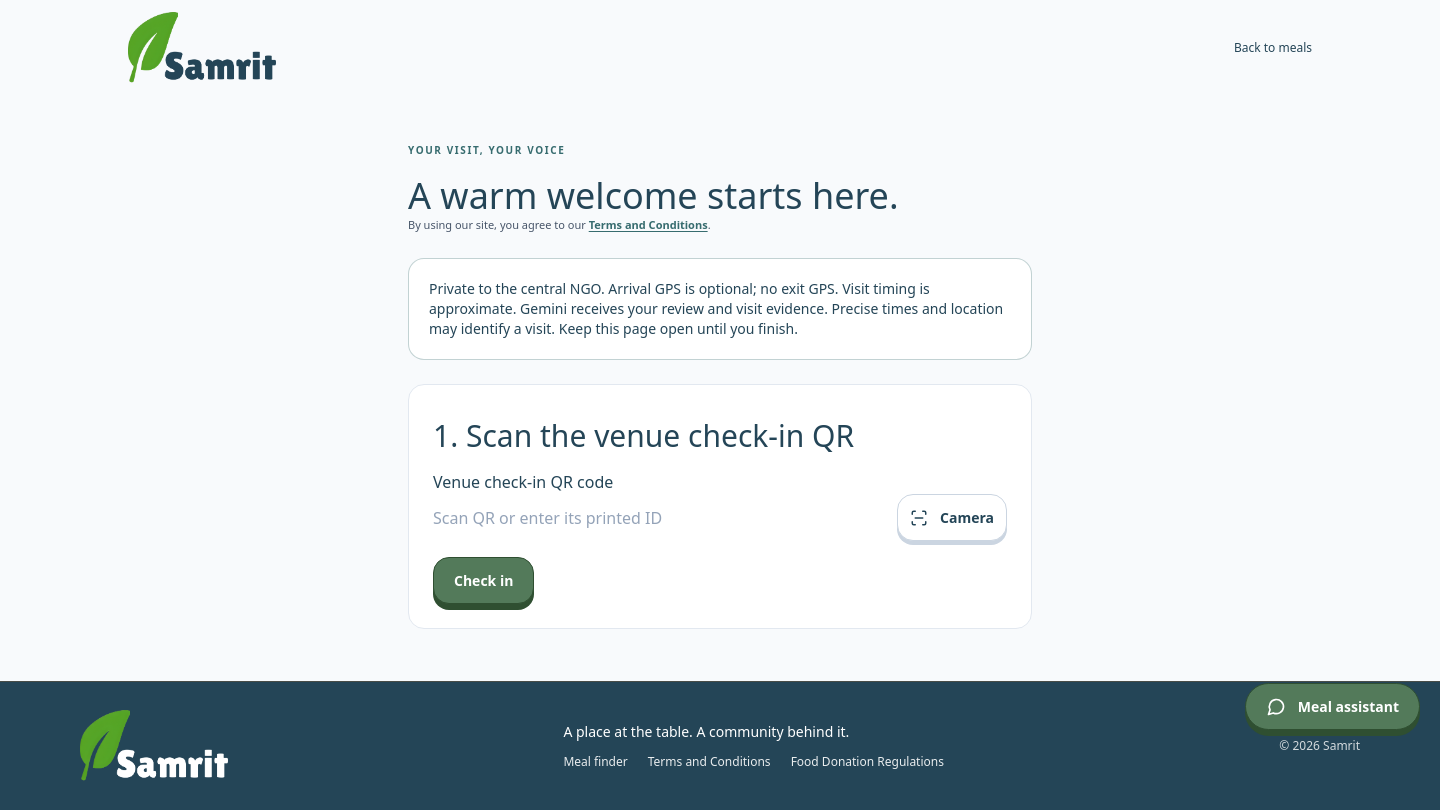
single venue check-in and finish button › keeps the review closed when finish fails
Type "SAMRIT:CENTER:test" into the field labelled "Venue check-in QR code".
click(659, 518); type("SAMRIT:CENTER:test")  # box x1=433 y1=506 x2=885 y2=530
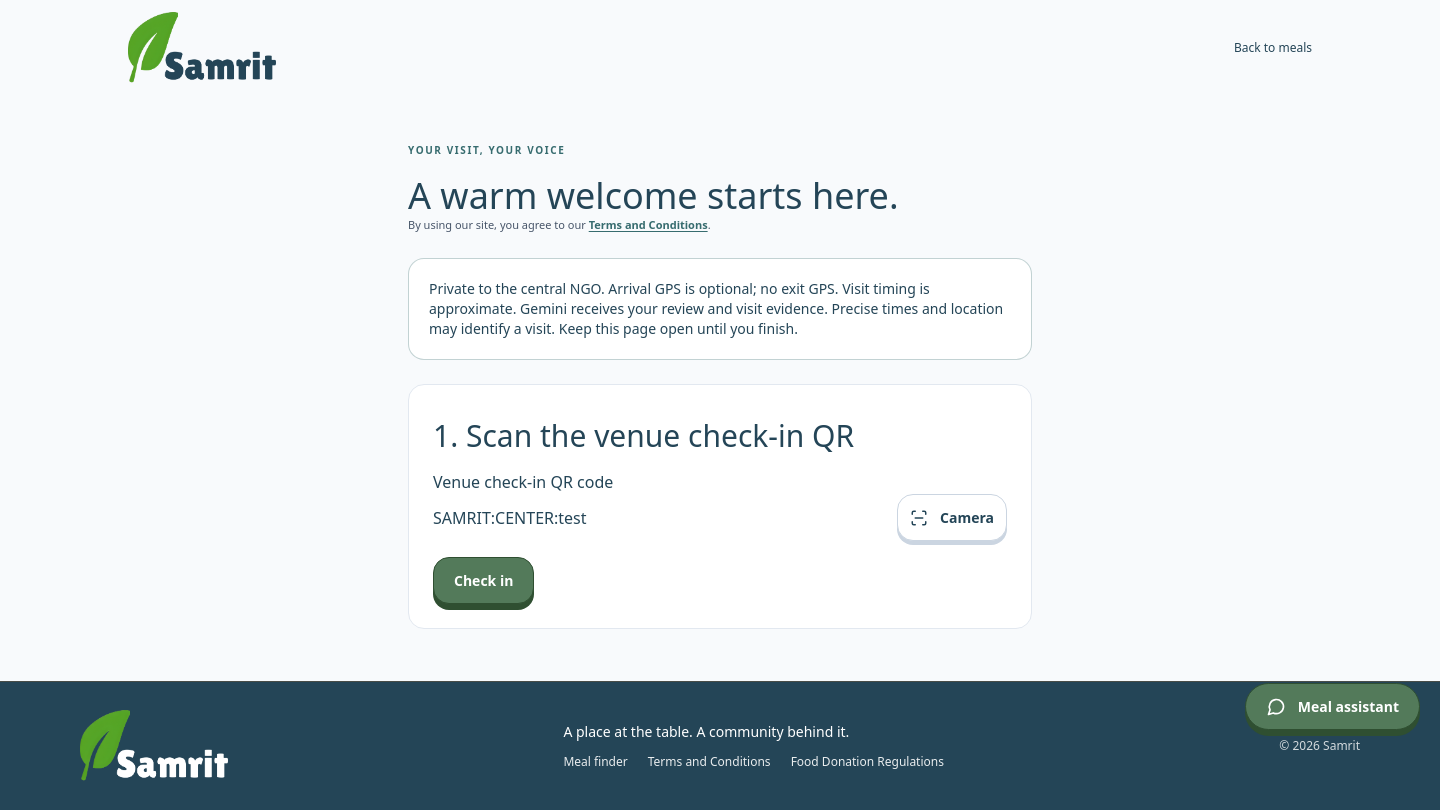
Click the button "Check in".
click(484, 581)  # box x1=433 y1=557 x2=534 y2=604
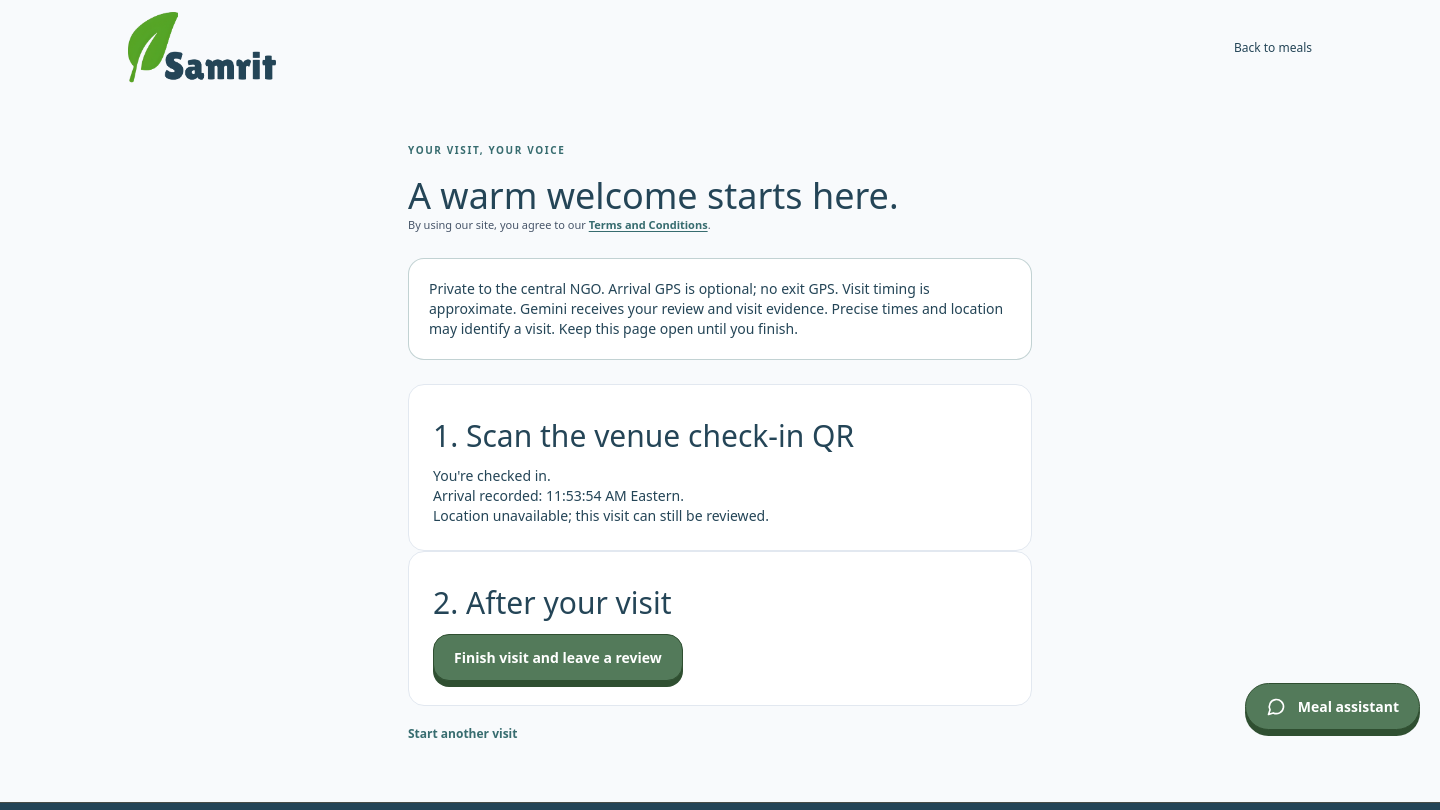
Result: the text "You're checked in." is shown at x1=433 y1=466 x2=551 y2=485
Click the button "Finish visit and leave a review".
click(558, 657)  # box x1=433 y1=634 x2=683 y2=681
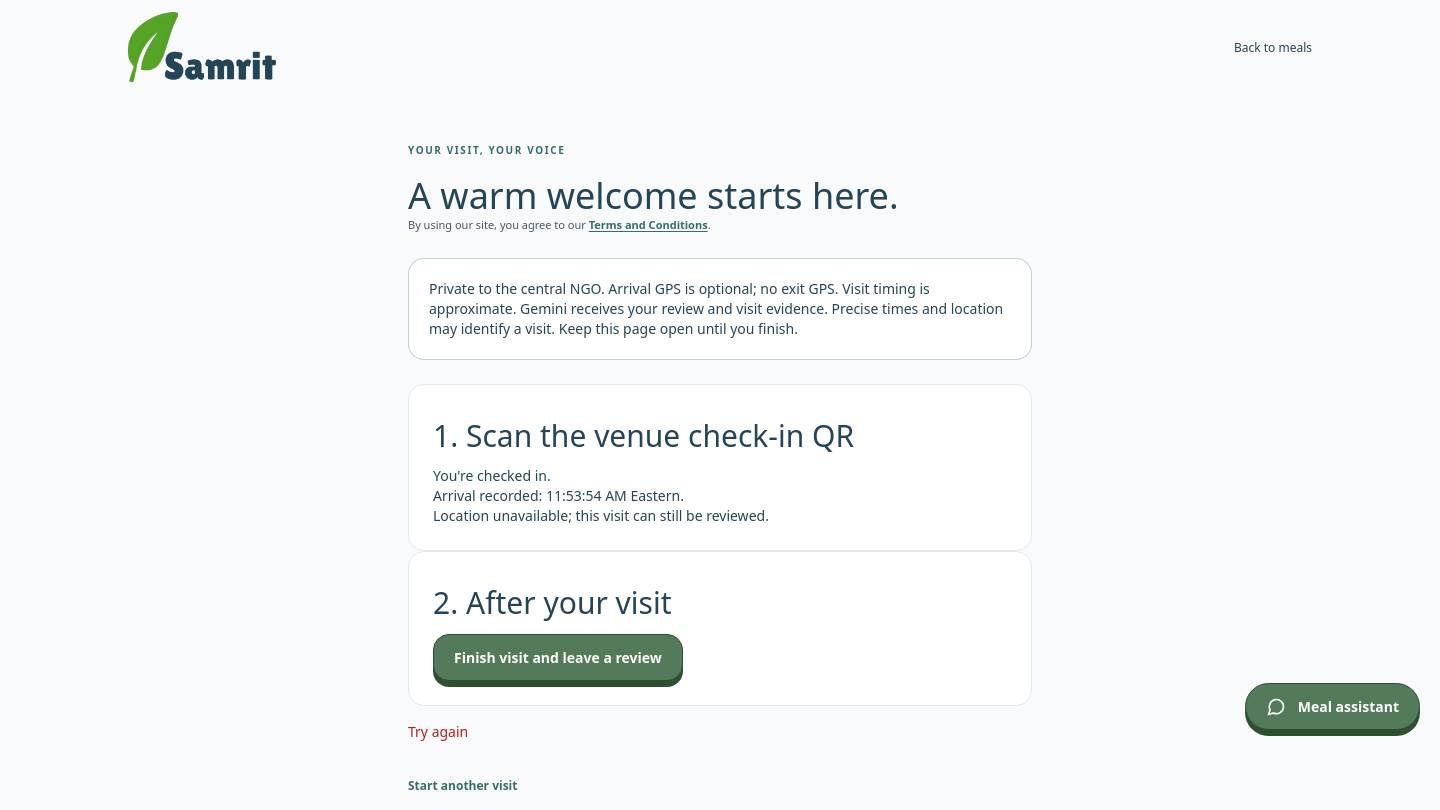
Result: the message "Try again" is shown at x1=408 y1=722 x2=468 y2=741
